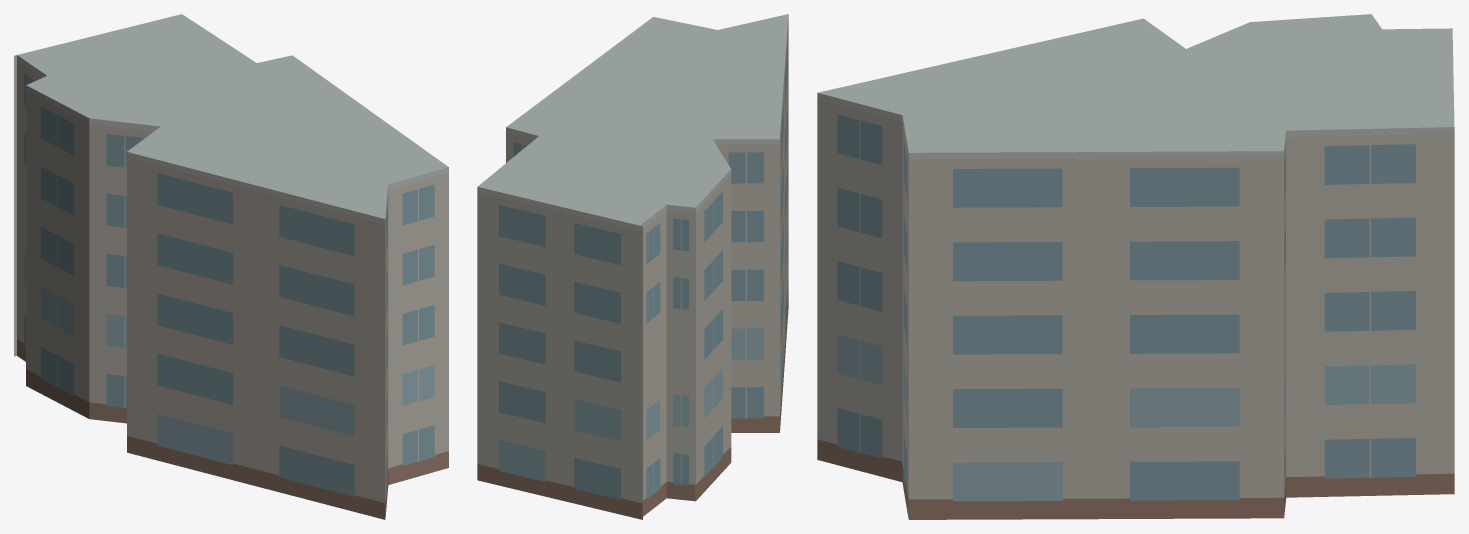
File: survey-upis-32580148.glb
3 views of the same model, side by side, from view 1: azimuth 30°, elevation 25°; view 2: azimuth 150°, elevation 25°; view 3: azimuth 270°, elevation 25° (orthographic). The views are drawn at different scales.
Visible parts, largest first — view 1: survey-upis-32580148.tmp; view 2: survey-upis-32580148.tmp; view 3: survey-upis-32580148.tmp.
Boxes of the visible parts, x1,y1,x2,y2 form: survey-upis-32580148.tmp: (14, 14, 448, 519); survey-upis-32580148.tmp: (477, 14, 788, 519); survey-upis-32580148.tmp: (817, 14, 1454, 519).
Size of the model in its own units: 10.88 by 13.4 by 21.09.
